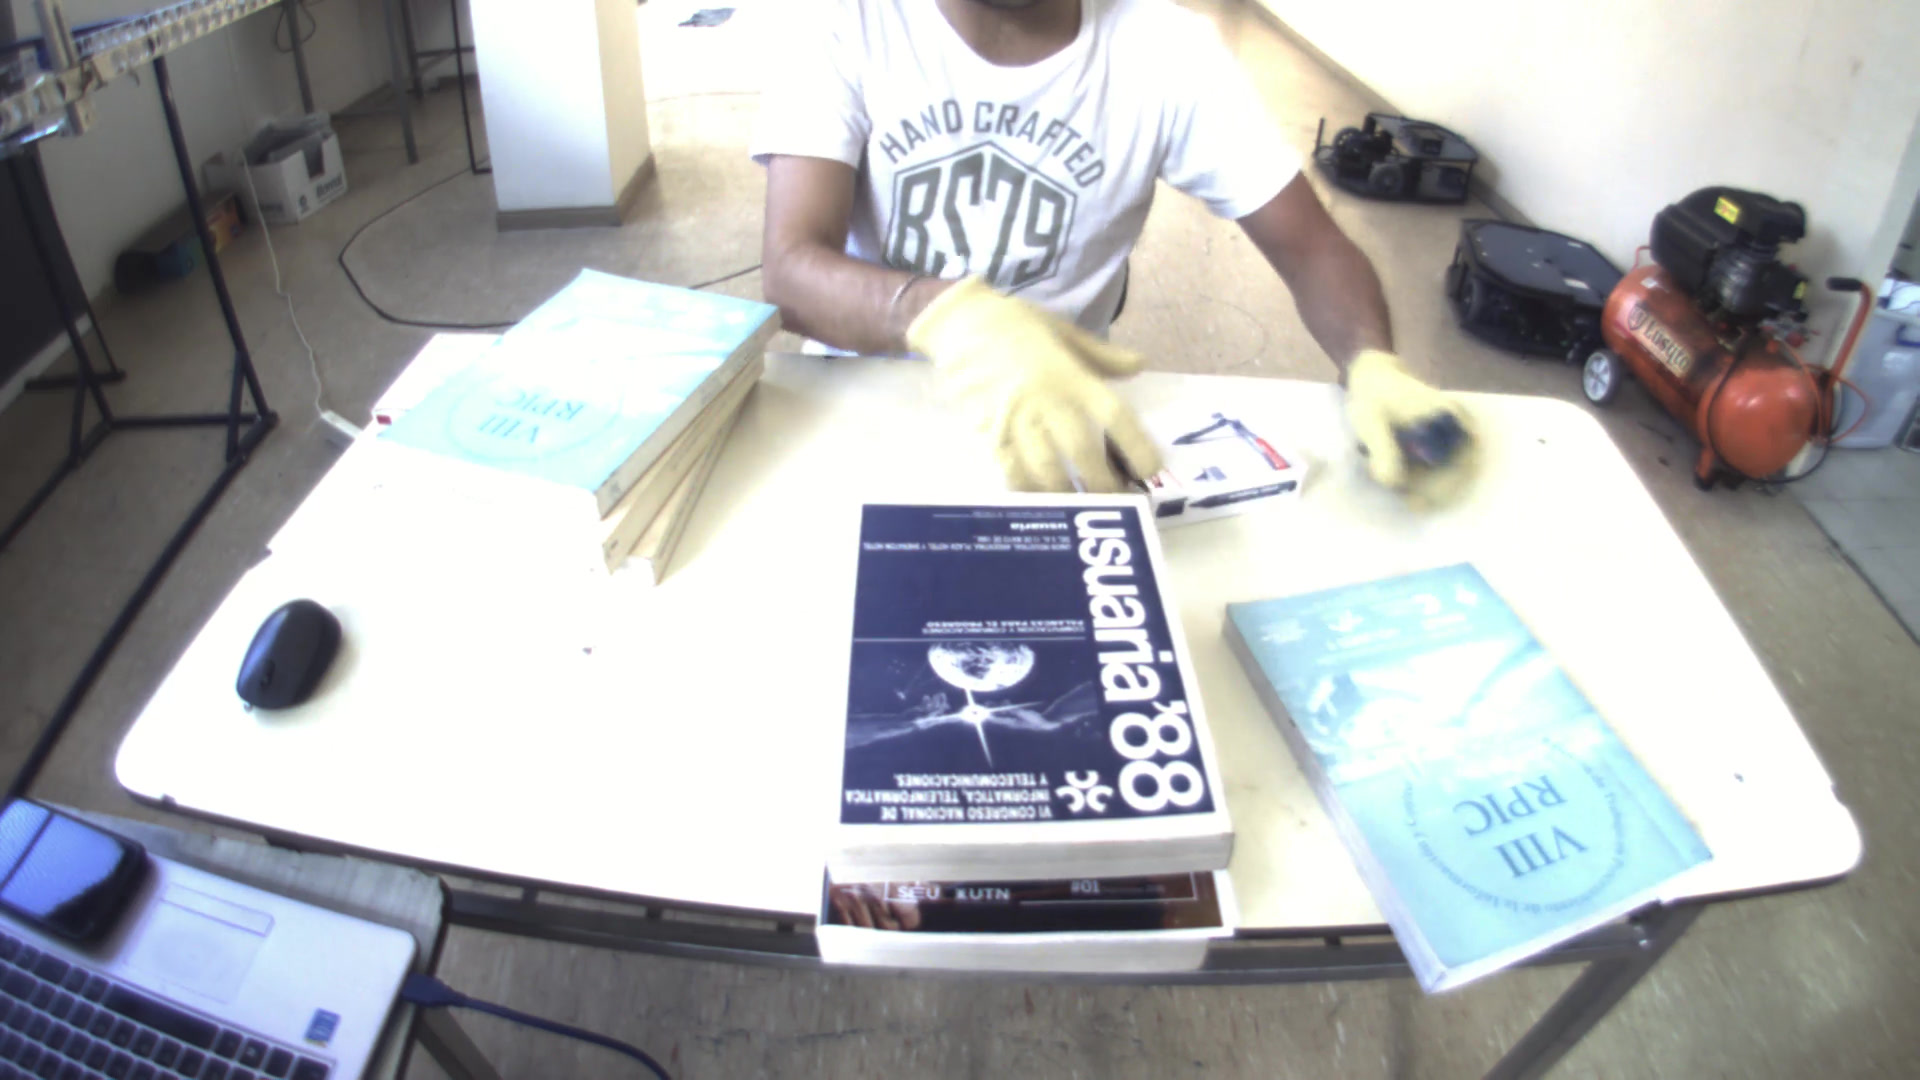hand: (909, 264, 1197, 502), (1331, 349, 1485, 517)
